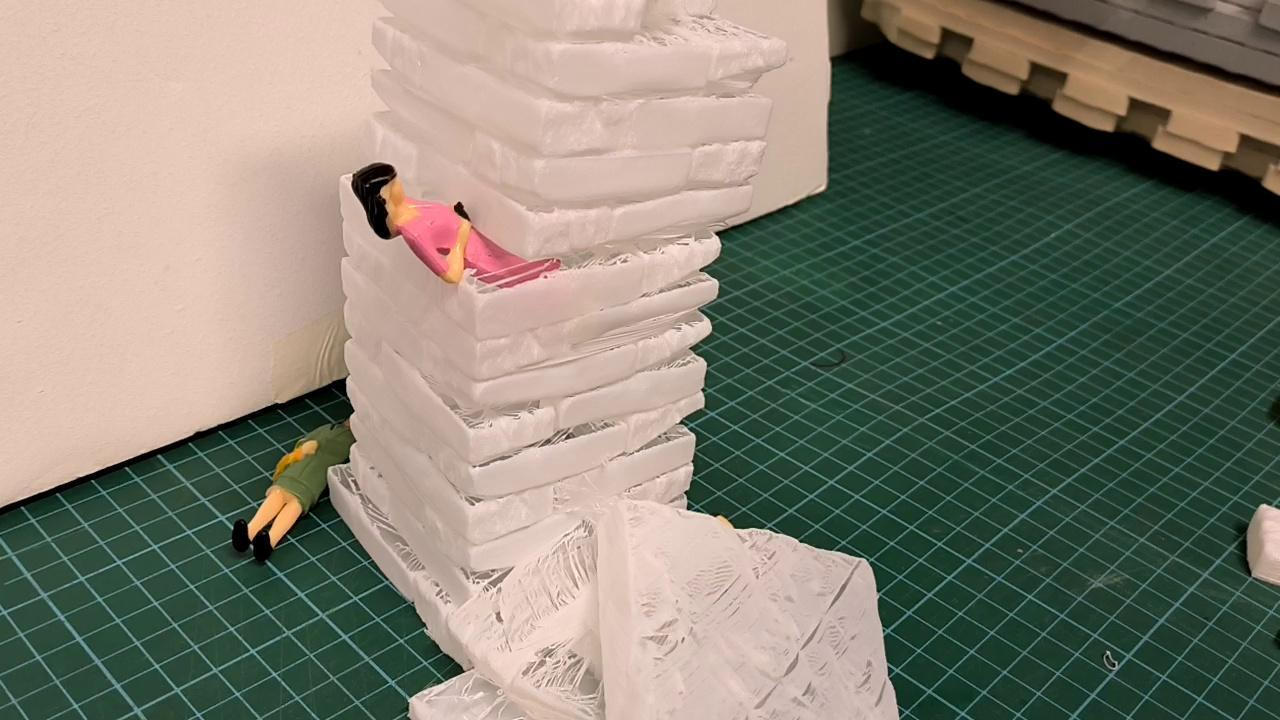human: (348, 160, 562, 292), (230, 408, 361, 567)
